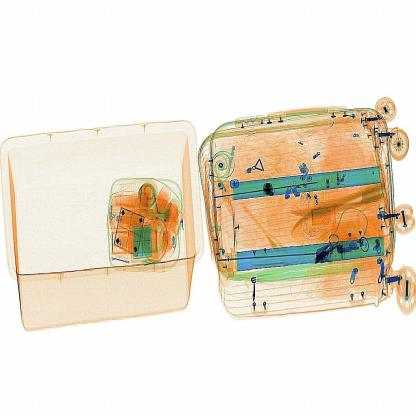scissors: (254, 171, 282, 198)
